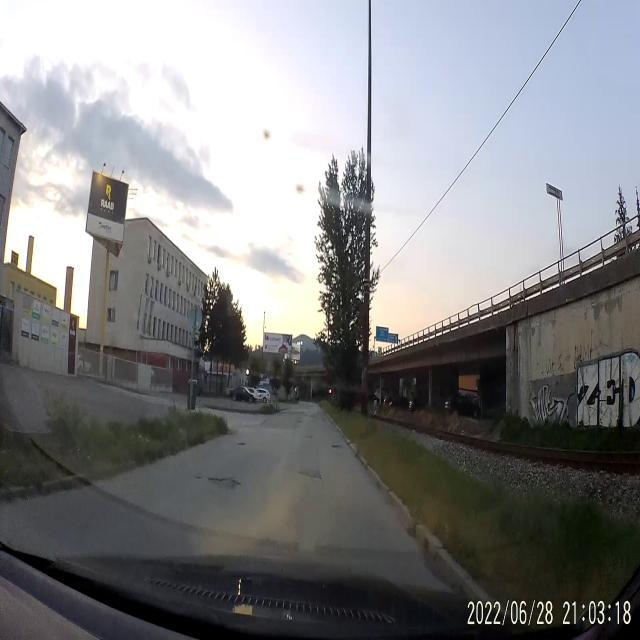Manhole: (329, 442, 342, 452)
Pothole: (197, 472, 242, 490), (298, 466, 324, 484), (236, 440, 246, 449), (294, 416, 304, 424), (304, 432, 311, 440)
